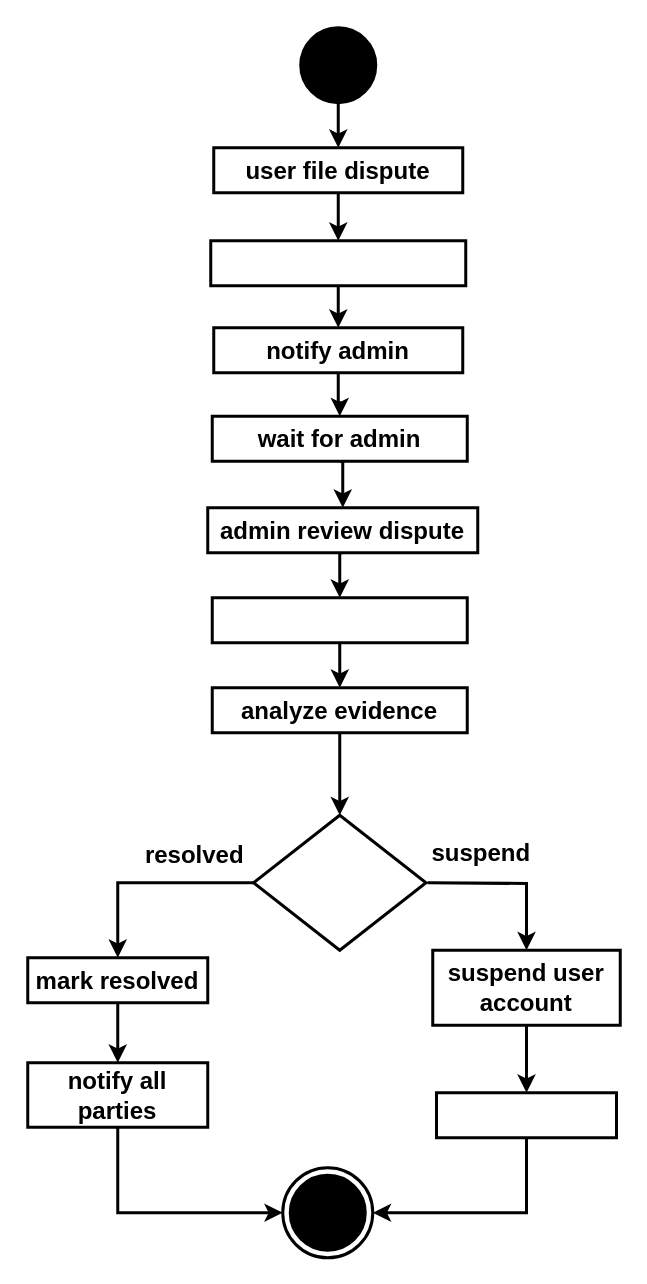
This 647x1284 diagram has some shape labels left out. The box of each missing label's shape, as (x1, y1, x2, y2) in pixels:
admin action: (251, 813, 427, 951)
geather evidence: (210, 596, 468, 644)
log dispute in system: (208, 238, 466, 286)
notify user: (434, 1090, 617, 1138)
